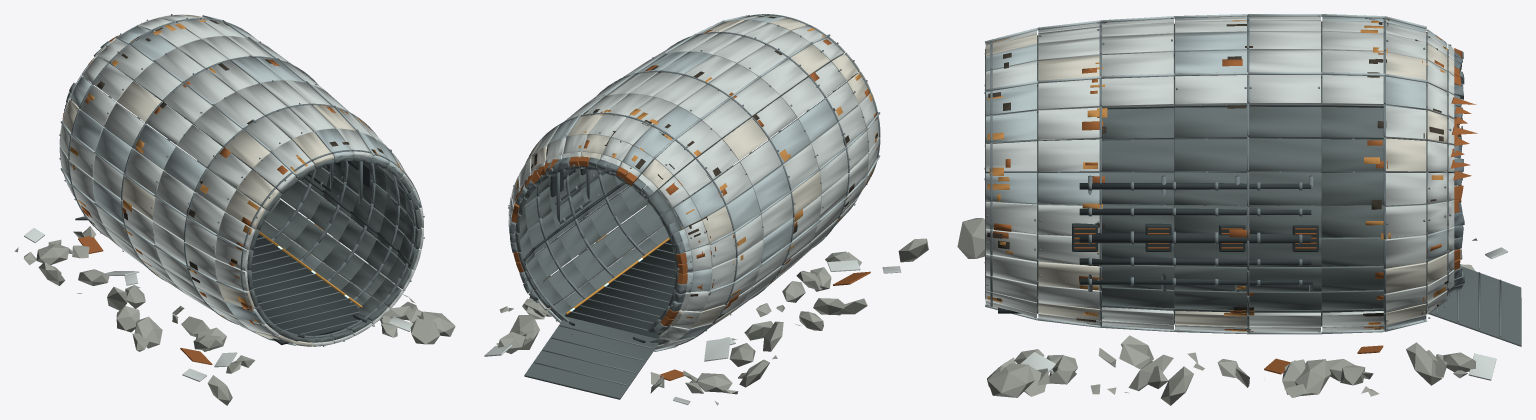
The model's file is echo9-orbital-wreck.glb.
3 views of the same model, side by side, from view 1: azimuth 30°, elevation 25°; view 2: azimuth 150°, elevation 25°; view 3: azimuth 270°, elevation 25° (orthographic). The views are drawn at different scales.
Visible parts, largest first — view 1: Wreck_Ivory, Wreck_InnerLiner, Wreck_IvoryCool, Wreck_ExposedSteel, Wreck_Debris, Wreck_DarkHull, Wreck_IvoryWarm, Wreck_Rust, Wreck_RustLight, Wreck_Burn; view 2: Wreck_Ivory, Wreck_InnerLiner, Wreck_IvoryCool, Wreck_ExposedSteel, Wreck_Debris, Wreck_IvoryWarm, Wreck_DarkHull, Wreck_Rust, Wreck_RustLight, Wreck_Burn; view 3: Wreck_Ivory, Wreck_InnerLiner, Wreck_IvoryCool, Wreck_Debris, Wreck_IvoryWarm, Wreck_DarkHull, Wreck_ExposedSteel, Wreck_Rust, Wreck_RustLight, Wreck_Burn.
Part boxes in pixels (x1,y1,x2,y2): Wreck_Ivory: (24,14,423,381); Wreck_InnerLiner: (72,56,420,342); Wreck_IvoryCool: (59,15,421,345); Wreck_ExposedSteel: (59,14,424,346); Wreck_Debris: (14,218,455,405); Wreck_DarkHull: (250,161,411,344); Wreck_IvoryWarm: (62,14,389,346); Wreck_Rust: (60,19,406,364); Wreck_RustLight: (67,15,419,342); Wreck_Burn: (66,20,383,342); Wreck_Ivory: (484,15,901,404); Wreck_InnerLiner: (515,53,861,399); Wreck_IvoryCool: (508,15,880,351); Wreck_ExposedSteel: (508,14,880,385); Wreck_Debris: (496,203,928,405); Wreck_IvoryWarm: (524,18,874,328); Wreck_DarkHull: (523,167,677,342); Wreck_Rust: (509,29,878,380); Wreck_RustLight: (516,27,877,345); Wreck_Burn: (512,16,877,328); Wreck_Ivory: (985,16,1507,380); Wreck_InnerLiner: (985,21,1521,346); Wreck_IvoryCool: (984,14,1458,334); Wreck_Debris: (957,218,1477,405); Wreck_IvoryWarm: (985,33,1454,326); Wreck_DarkHull: (984,85,1318,313); Wreck_ExposedSteel: (986,15,1501,336); Wreck_Rust: (989,48,1477,374); Wreck_RustLight: (987,18,1447,331); Wreck_Burn: (987,18,1448,330).
Bounding box in the file's own units: 37.74 × 31.41 × 53.63.
